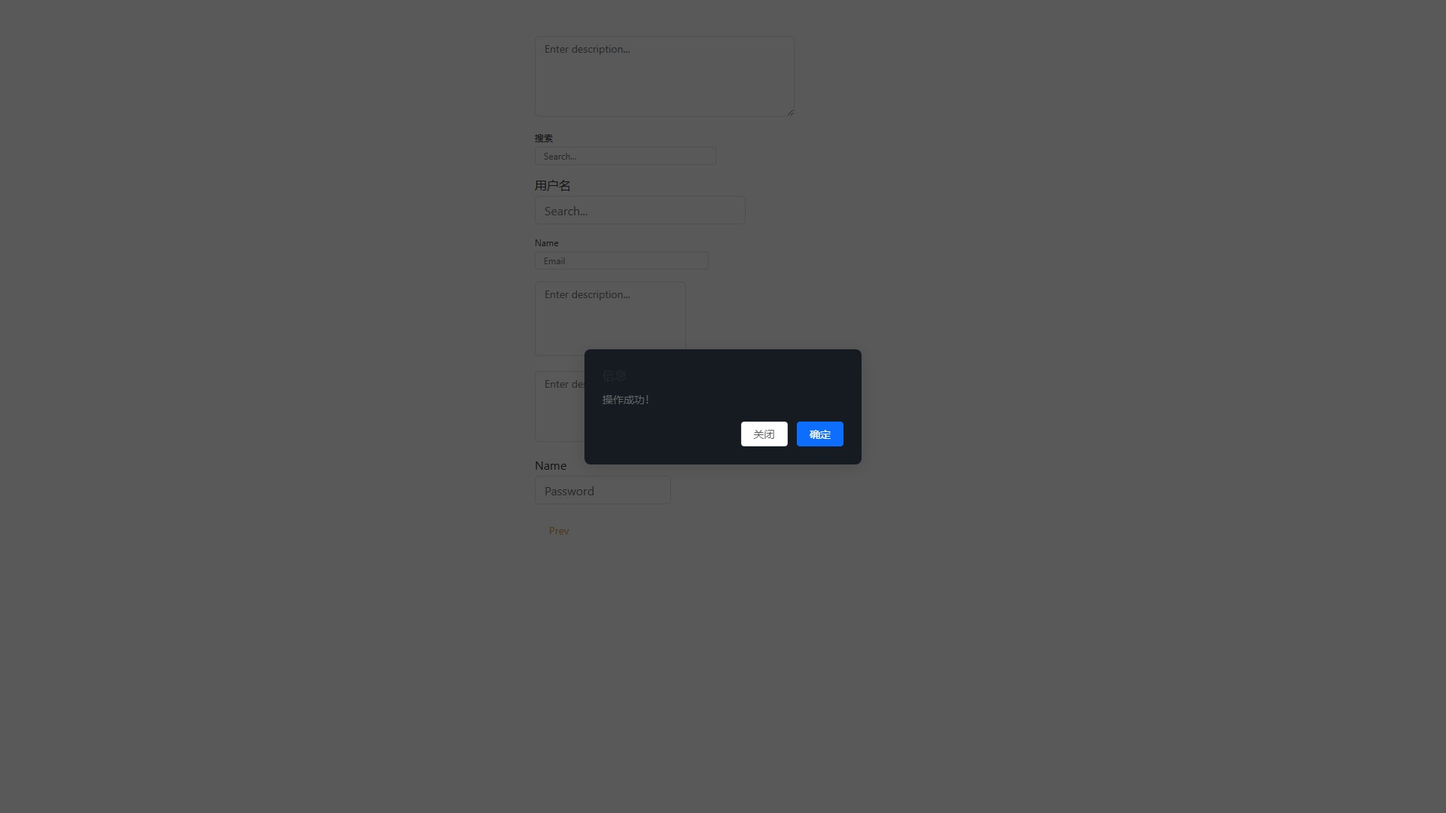button: (535, 516, 583, 545), (741, 421, 787, 446), (797, 421, 843, 446)
input: (535, 196, 746, 224), (535, 476, 671, 504), (535, 147, 716, 165), (535, 251, 709, 269)
modal: (0, 0, 1446, 813)
textarea: (535, 36, 795, 117), (535, 371, 831, 442), (535, 282, 686, 356)
